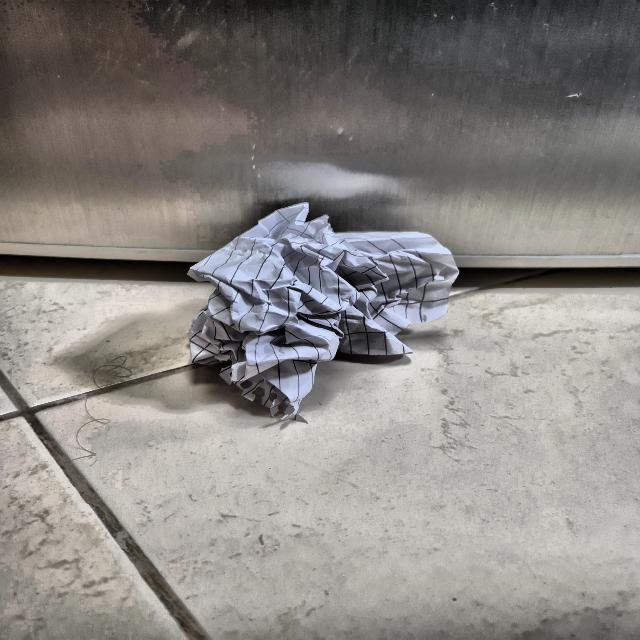Paper: (178, 205, 467, 415)
